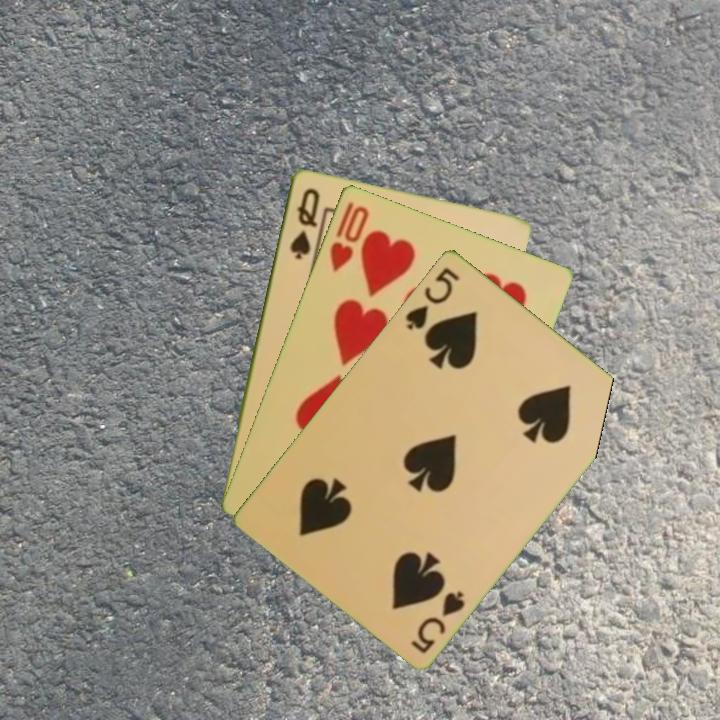10h: (325, 197, 372, 275)
5s: (407, 586, 468, 656), (401, 263, 462, 332)
Qs: (286, 184, 323, 262)
